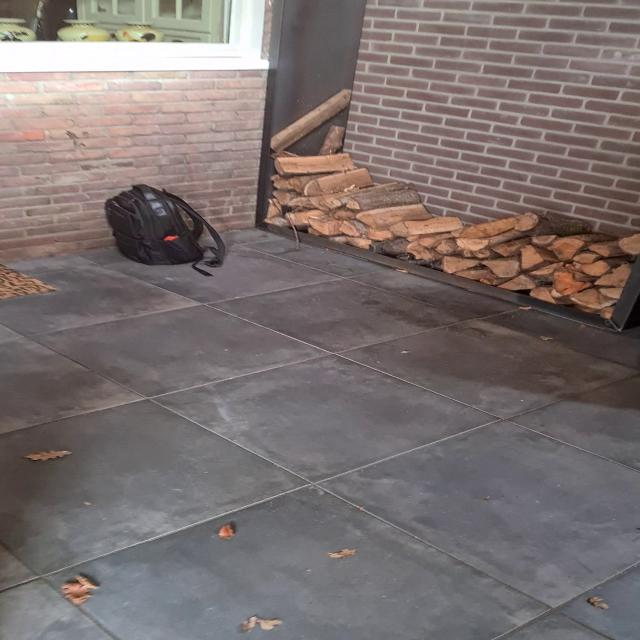backpack: (100, 181, 225, 270)
